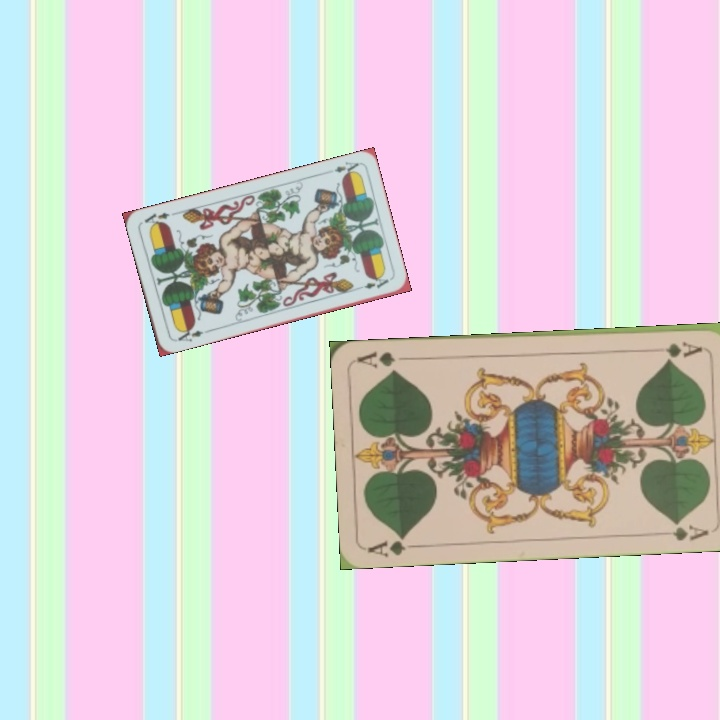EA: (171, 322, 211, 344), (330, 157, 361, 178)
GA: (364, 531, 423, 559), (645, 337, 704, 359)
